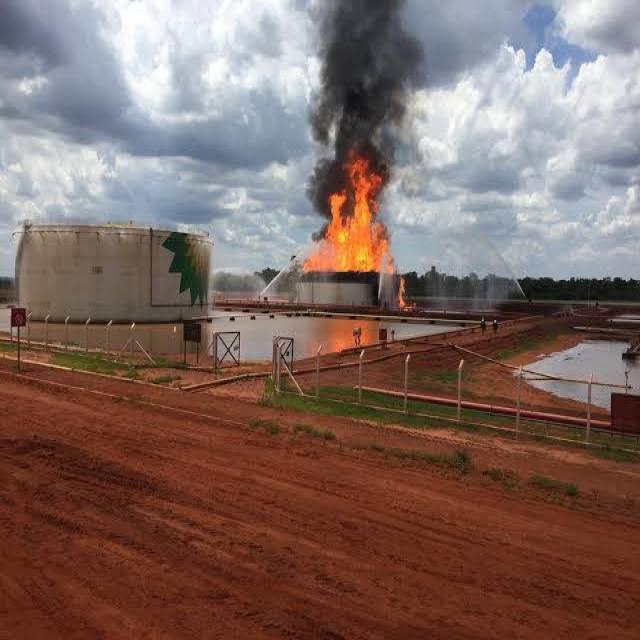Fire: (317, 165, 395, 268)
Smoke: (301, 8, 422, 204)
